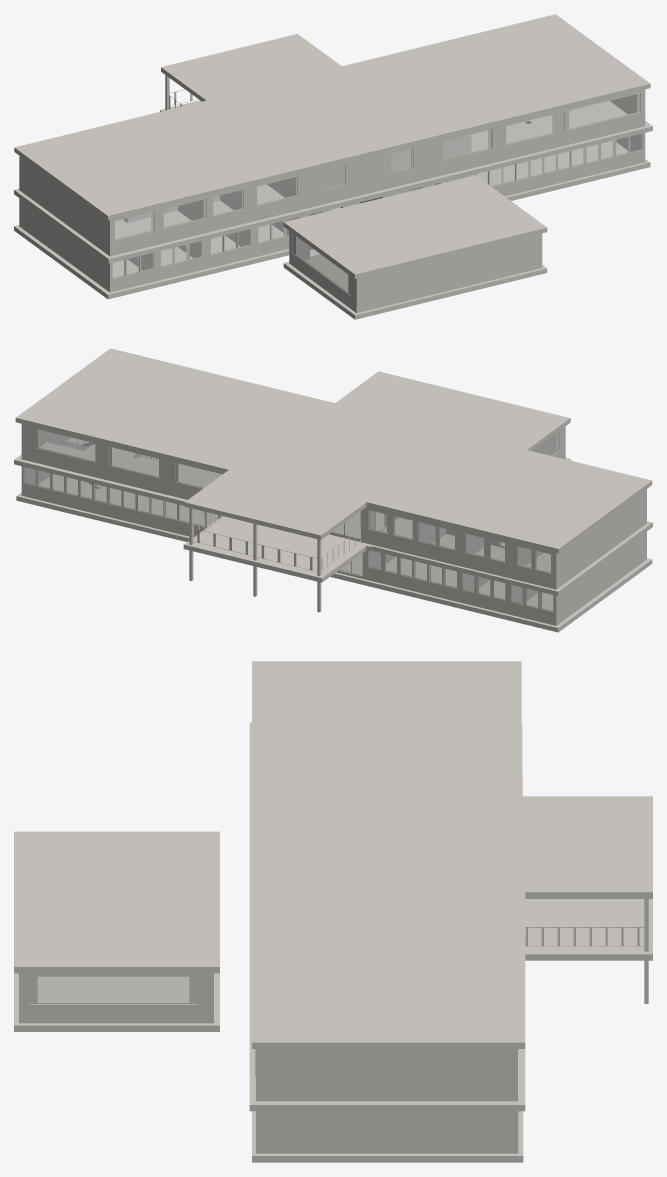
File: washroom_ladies_walk.glb
The picture shows the model from 3 angles, top to bottom: view 1: azimuth 30°, elevation 25°; view 2: azimuth 150°, elevation 25°; view 3: azimuth 270°, elevation 25°; orthographic projection. The views are drawn at different scales.
Parts seen in each view (by area): view 1: BEYOND_L2_SLAB, BEYOND_L1_WALL, BEYOND_L0_WALL, BEYOND_L0_SLAB, BEYOND_L1_SLAB, BEYOND_L1_GLASS, BEYOND_L0_GLASS, UPPER_in_zone, BEYOND_L1_FRAME, BEYOND_L0_FRAME, BEYOND_L1_OTHER, BEYOND_L0_OTHER; view 2: BEYOND_L2_SLAB, BEYOND_L1_WALL, BEYOND_L1_SLAB, BEYOND_L0_WALL, BEYOND_L0_SLAB, BEYOND_L1_GLASS, BEYOND_L0_GLASS, UPPER_in_zone, BEYOND_L1_FRAME, BEYOND_L0_FRAME, BEYOND_L1_OTHER, BEYOND_L1_STAIR (+3 smaller); view 3: BEYOND_L2_SLAB, BEYOND_L0_WALL, BEYOND_L1_WALL, BEYOND_L1_SLAB, BEYOND_L0_SLAB, UPPER_in_zone, BEYOND_L0_GLASS, BEYOND_L0_FRAME.
Boxes of the visible parts, x1,y1,x2,y2 form: BEYOND_L2_SLAB: (14,14,650,278); BEYOND_L1_WALL: (19,89,645,256); BEYOND_L0_WALL: (19,133,645,313); BEYOND_L0_SLAB: (14,122,650,319); BEYOND_L1_SLAB: (14,100,652,263); BEYOND_L1_GLASS: (115,94,636,238); BEYOND_L0_GLASS: (113,134,641,291); UPPER_in_zone: (265,127,351,189); BEYOND_L1_FRAME: (113,93,640,240); BEYOND_L0_FRAME: (112,134,642,295); BEYOND_L1_OTHER: (112,89,641,240); BEYOND_L0_OTHER: (124,133,642,295); BEYOND_L2_SLAB: (15,348,652,553); BEYOND_L1_WALL: (21,424,646,589); BEYOND_L1_SLAB: (14,442,652,596); BEYOND_L0_WALL: (21,426,646,625); BEYOND_L0_SLAB: (16,444,652,632); BEYOND_L1_GLASS: (38,429,550,572); BEYOND_L0_GLASS: (24,434,555,610); UPPER_in_zone: (368,422,455,461); BEYOND_L1_FRAME: (34,428,551,573); BEYOND_L0_FRAME: (23,431,558,611); BEYOND_L1_OTHER: (34,428,551,573); BEYOND_L1_STAIR: (136,454,500,570); BEYOND_L2_SLAB: (14,661,652,1048); BEYOND_L0_WALL: (19,973,518,1153); BEYOND_L1_WALL: (256,1049,517,1101); BEYOND_L1_SLAB: (249,722,652,1111); BEYOND_L0_SLAB: (14,775,523,1162); UPPER_in_zone: (256,798,363,834); BEYOND_L0_GLASS: (38,977,188,1002); BEYOND_L0_FRAME: (29,976,197,1003).
Bounding box in the file's own units: 38.22 × 5.6 × 27.
Materials: 11 (8 with a texture image).
